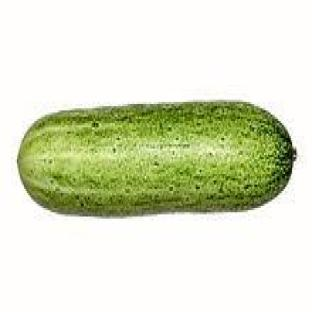Cucumber: (19, 102, 294, 216)
